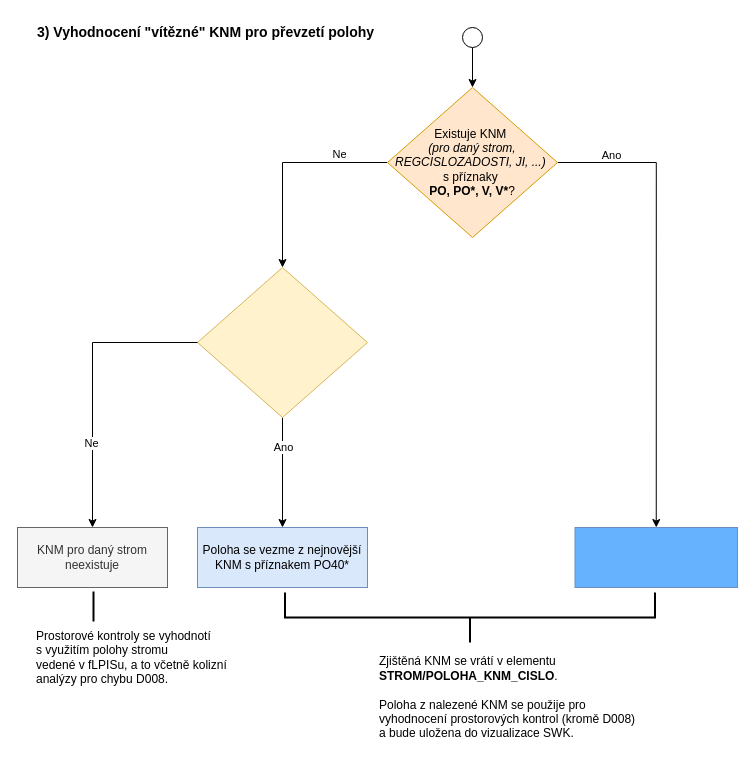
Some shapes in this 755 by 774 pixel diagram are drawn without their labels. The shapes that lost their labels are listed below. From the top down, each one's centre as x and y in pixels, then its label:
[282,342]: Existuje KNM s příznakem PO40* ?
[656,557]: Poloha se vezme z nejnovější KNM s příznaky V, V*, PO, PO*
